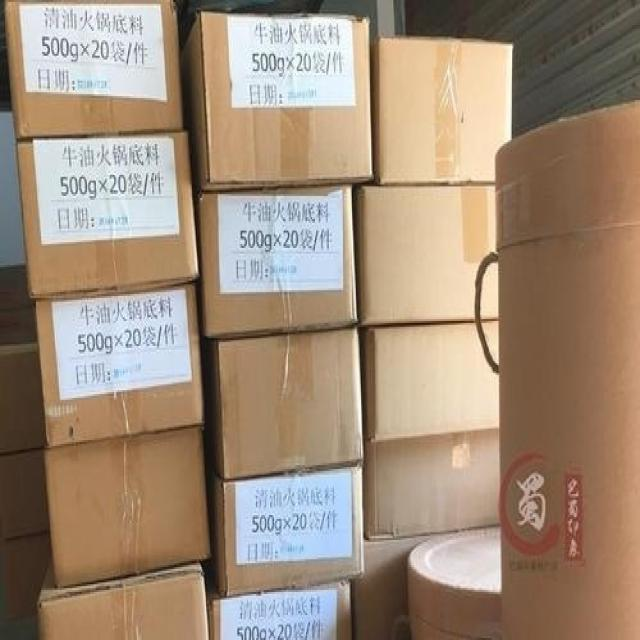box: (178, 12, 372, 192), (15, 129, 200, 300), (32, 284, 205, 450), (44, 425, 211, 588), (1, 0, 186, 140), (193, 185, 357, 342), (200, 327, 364, 480), (370, 35, 513, 185), (352, 185, 498, 327), (207, 465, 365, 596), (360, 321, 499, 442), (364, 431, 500, 542), (38, 554, 210, 640), (352, 534, 443, 638), (206, 582, 352, 640), (0, 342, 44, 455), (0, 446, 50, 542), (0, 532, 51, 619), (0, 263, 36, 344)
